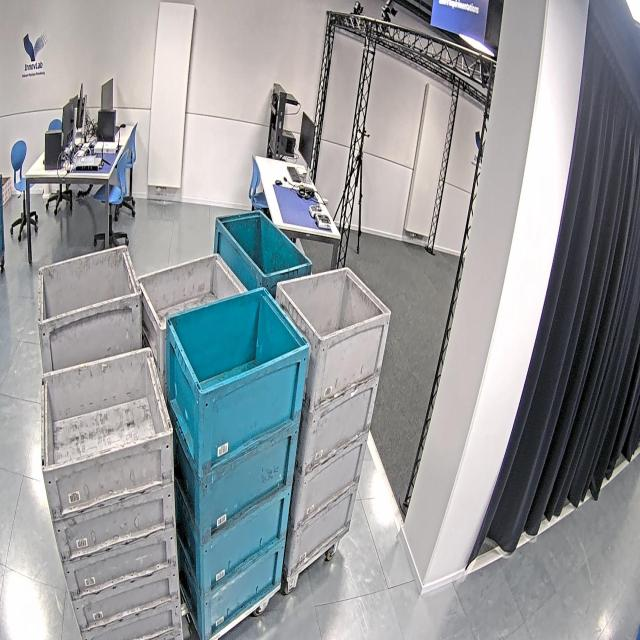Box3G: (39, 345, 185, 640), (132, 248, 255, 593)
Box4G: (264, 265, 392, 582), (36, 243, 151, 587)
BoxB4: (166, 281, 311, 640), (201, 211, 313, 534)
